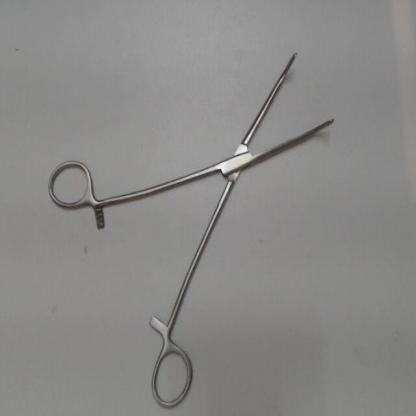Lahey Forceps: (43, 44, 339, 414)
